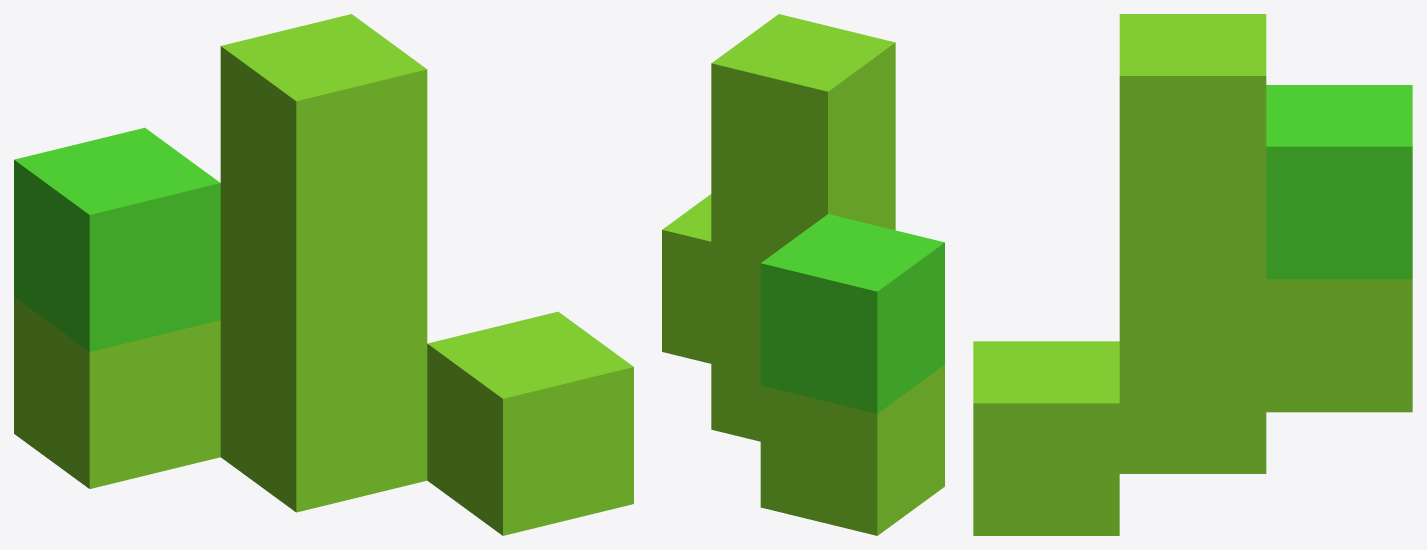
File: tile-33.obj
3 renders of one model, left to right at view 1: azimuth 30°, elevation 25°; view 2: azimuth 150°, elevation 25°; view 3: azimuth 270°, elevation 25°, orthographic. The views are drawn at different scales.
Bounding box in the file's own units: 0.3 × 0.3 × 0.3.
